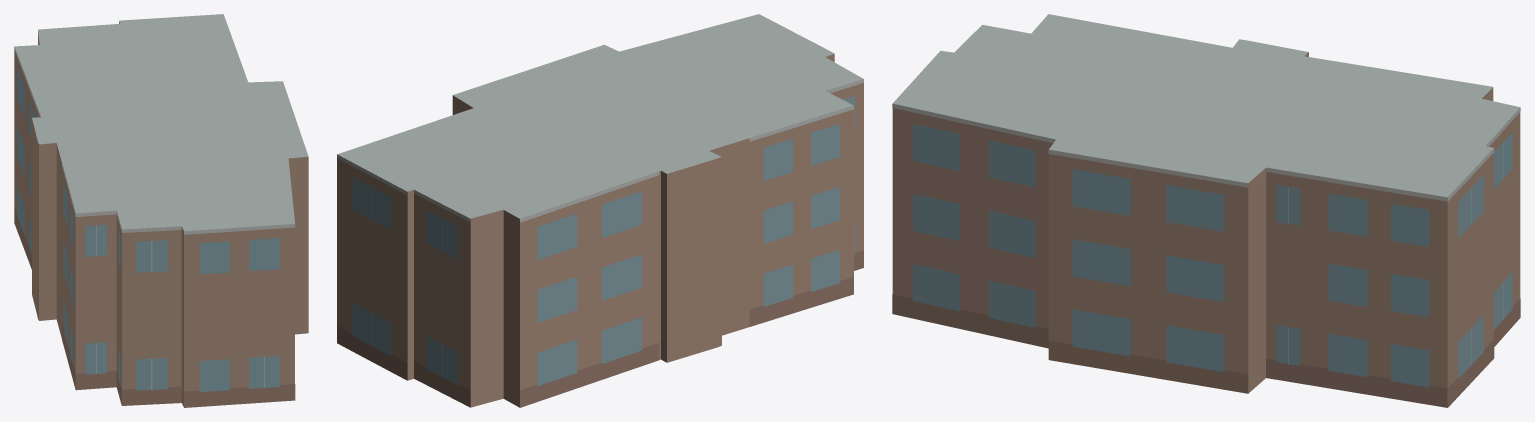
The model's file is survey-upis-32497893.glb.
3 views of the same model, side by side, from view 1: azimuth 30°, elevation 25°; view 2: azimuth 150°, elevation 25°; view 3: azimuth 270°, elevation 25° (orthographic). The views are drawn at different scales.
Parts seen in each view (by area): view 1: survey-upis-32497893.tmp; view 2: survey-upis-32497893.tmp; view 3: survey-upis-32497893.tmp.
Boxes of the visible parts, x1,y1,x2,y2 form: survey-upis-32497893.tmp: (14, 14, 308, 407); survey-upis-32497893.tmp: (337, 14, 863, 407); survey-upis-32497893.tmp: (892, 14, 1520, 407).
Bounding box in the file's own units: 22.4 × 11.98 × 32.4.
